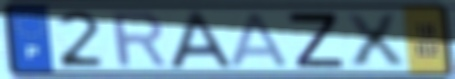2: (53, 8, 110, 70)
A: (165, 9, 237, 71), (227, 11, 292, 69)
R: (107, 9, 171, 70)
X: (340, 11, 409, 68)
Z: (283, 10, 348, 70)
